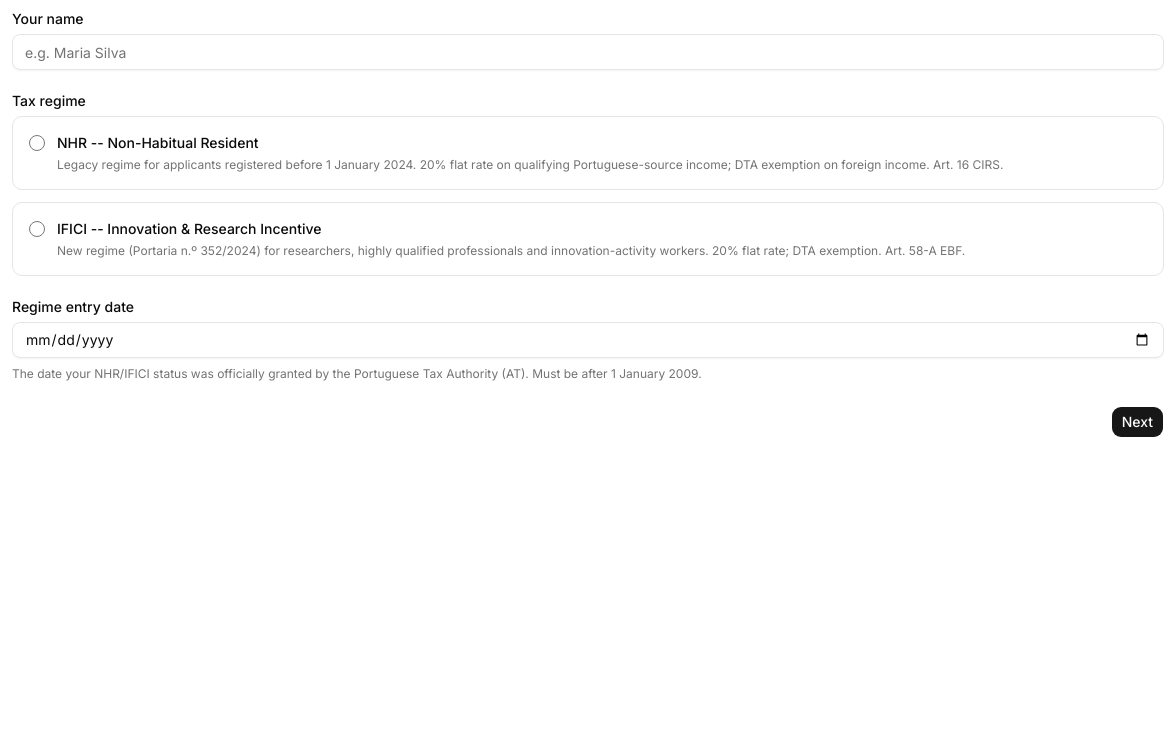
it: Step1Regime › shows Zod validation errors on empty submit
Click the button "Next".
click(1137, 422)  # box top-left (1111, 406), bottom-right (1164, 438)
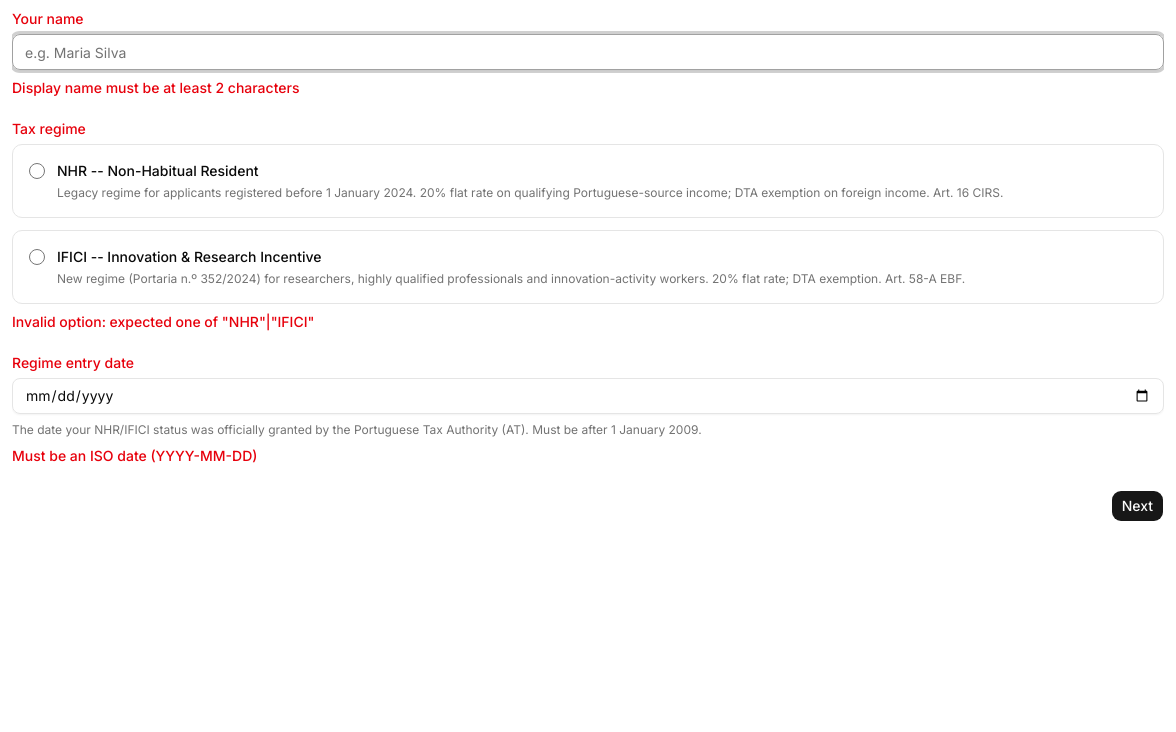
Now the text "Display name must be at least 2 characters" is shown, box top-left (12, 79), bottom-right (300, 96)
